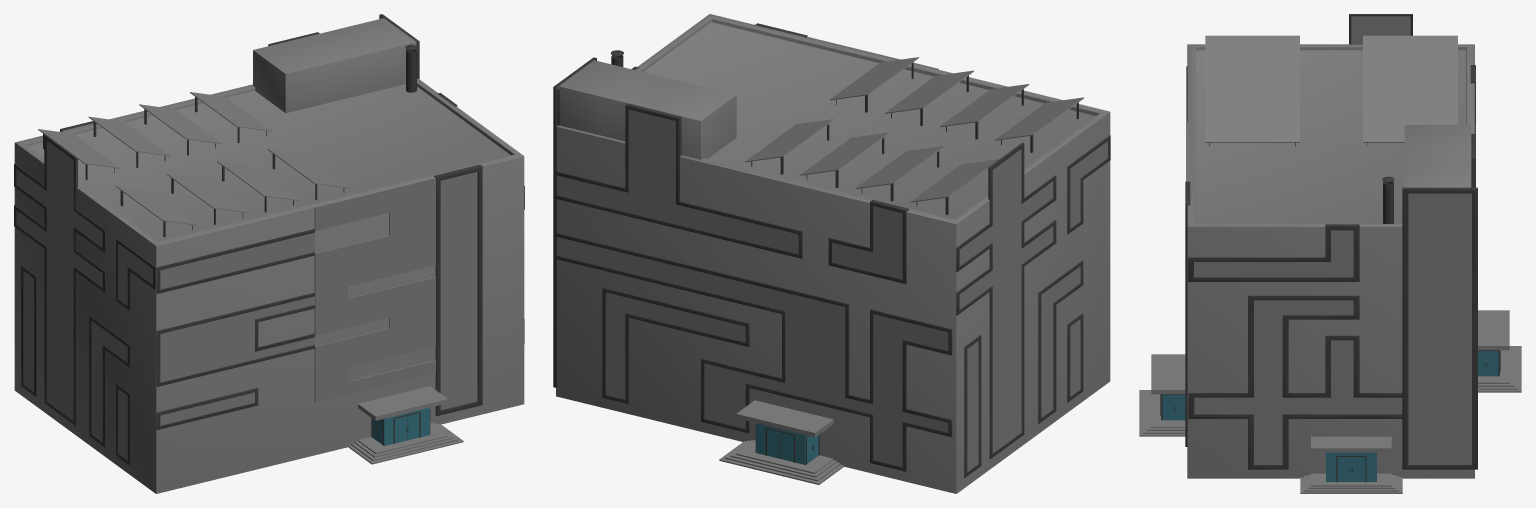
File: chemistry building_fbx.fbx
The picture shows the model from 3 angles, left to right: view 1: azimuth 30°, elevation 25°; view 2: azimuth 150°, elevation 25°; view 3: azimuth 270°, elevation 25°; orthographic projection. The views are drawn at different scales.
Parts seen in each view (by area): view 1: Group001, Shape005, Plane005, Shape018; view 2: Group001, Shape005, Plane005, Shape018; view 3: Group001, Plane005, Shape005, Shape018, Cylinder009.
Part boxes in pixels (left/top/right/bottom): Group001: left=14, top=18, right=524, bottom=493; Shape005: left=14, top=14, right=524, bottom=465; Plane005: left=38, top=92, right=349, bottom=225; Shape018: left=348, top=386, right=463, bottom=464; Group001: left=556, top=14, right=1110, bottom=493; Shape005: left=553, top=23, right=1110, bottom=477; Plane005: left=745, top=57, right=1084, bottom=202; Shape018: left=719, top=400, right=844, bottom=484; Group001: left=1161, top=16, right=1499, bottom=481; Plane005: left=1205, top=35, right=1457, bottom=142; Shape005: left=1185, top=14, right=1477, bottom=469; Shape018: left=1139, top=310, right=1521, bottom=493; Cylinder009: left=1382, top=176, right=1394, bottom=223.
Bounding box in the file's own units: 4266 × 2941 × 3480.
